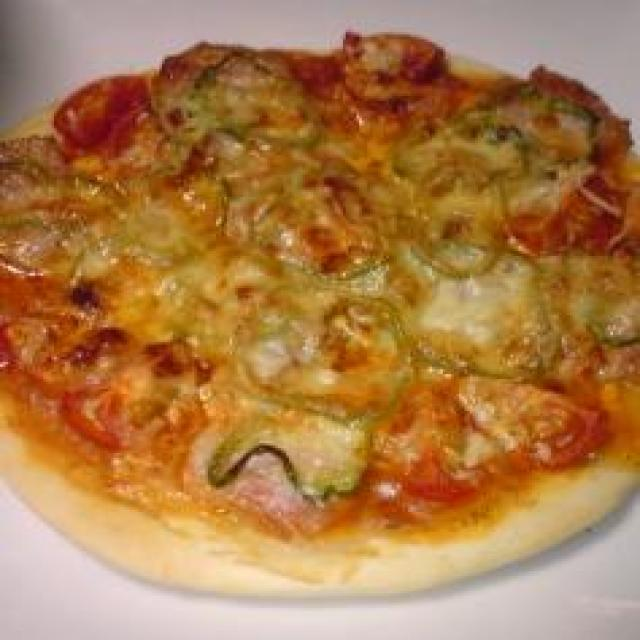汉堡快餐: (0, 25, 640, 608)
